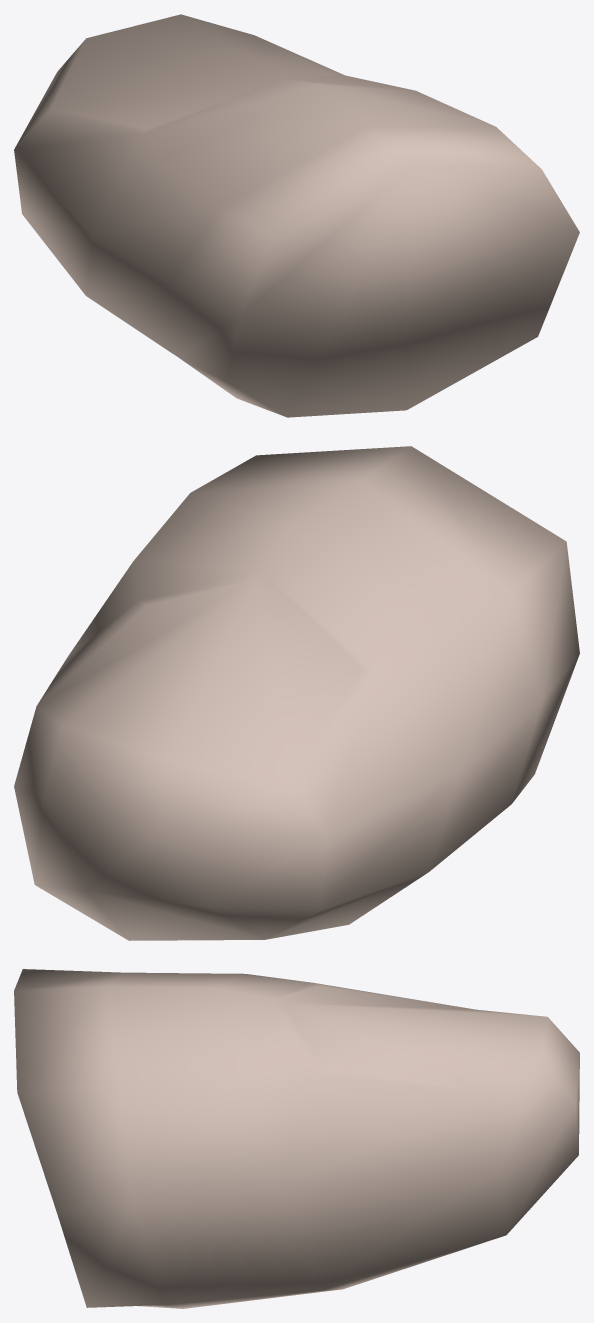
File: LIndex3rdPhalange.dae
The picture shows the model from 3 angles, top to bottom: view 1: azimuth 30°, elevation 25°; view 2: azimuth 150°, elevation 25°; view 3: azimuth 270°, elevation 25°; orthographic projection. The views are drawn at different scales.
Parts seen in each view (by area): view 1: ShapeIndexedFaceSet; view 2: ShapeIndexedFaceSet; view 3: ShapeIndexedFaceSet.
Boxes of the visible parts, box(x1,y1,x2,y2) form: ShapeIndexedFaceSet: box(14, 14, 579, 417); ShapeIndexedFaceSet: box(14, 446, 579, 940); ShapeIndexedFaceSet: box(14, 969, 579, 1308).
Size of the model in its own units: 0.0178 by 0.0236 by 0.0141.
